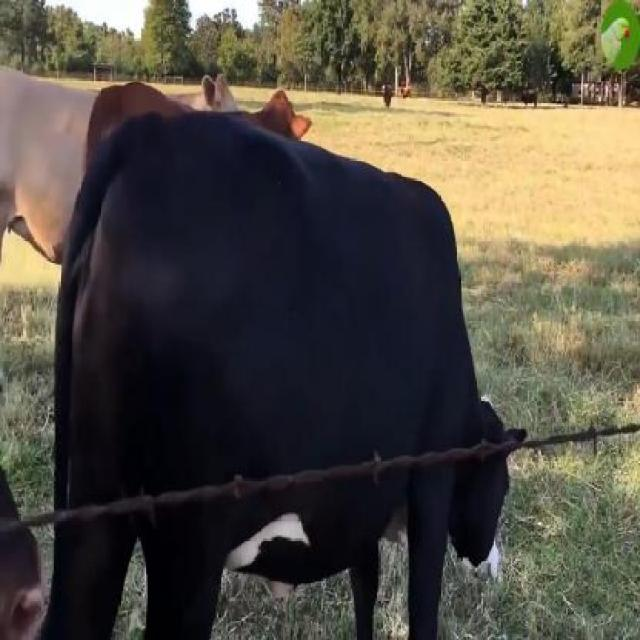Cow: (56, 116, 516, 638)
